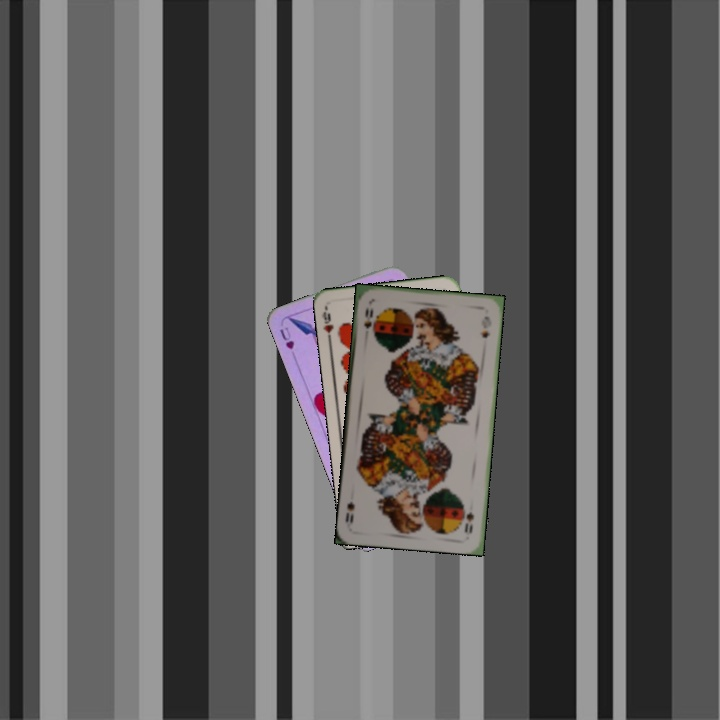H9: (318, 304, 336, 345)
HU: (276, 323, 297, 352)
SO: (360, 303, 376, 336), (460, 508, 476, 536)
